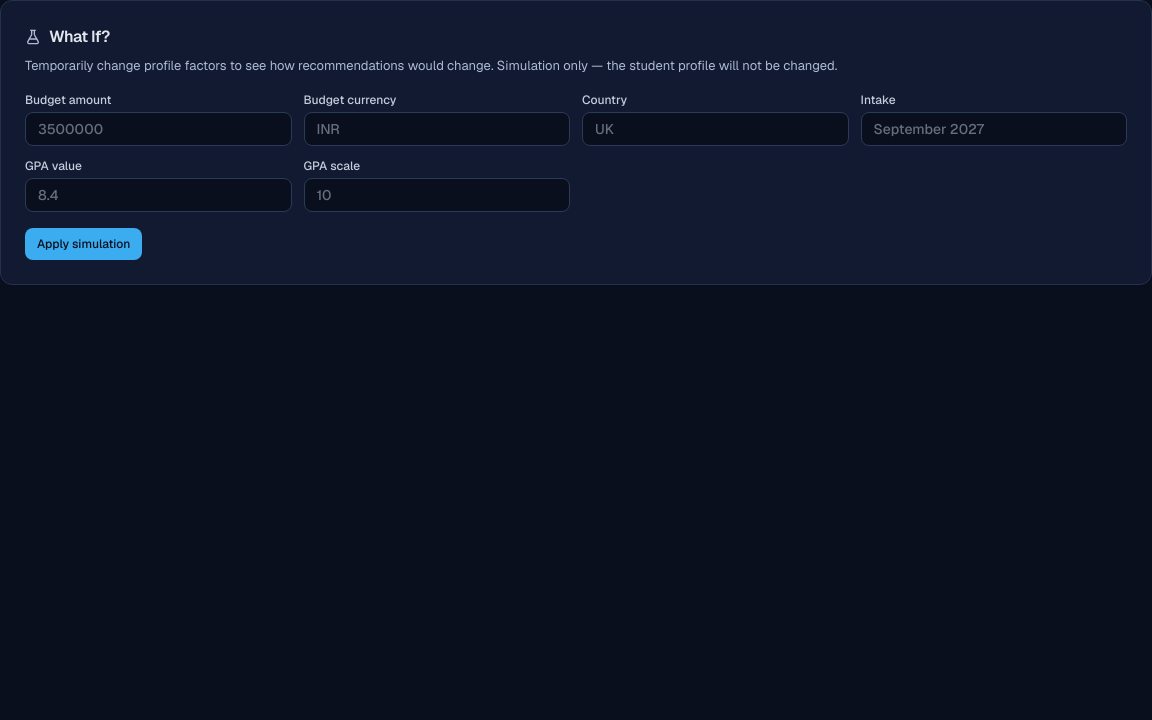
Test: WhatIfPanel › applies a simulation and renders rank and score deltas
Type "Canada" into the field named "Scenario country" at point(715, 129), box [582,112,848,146]
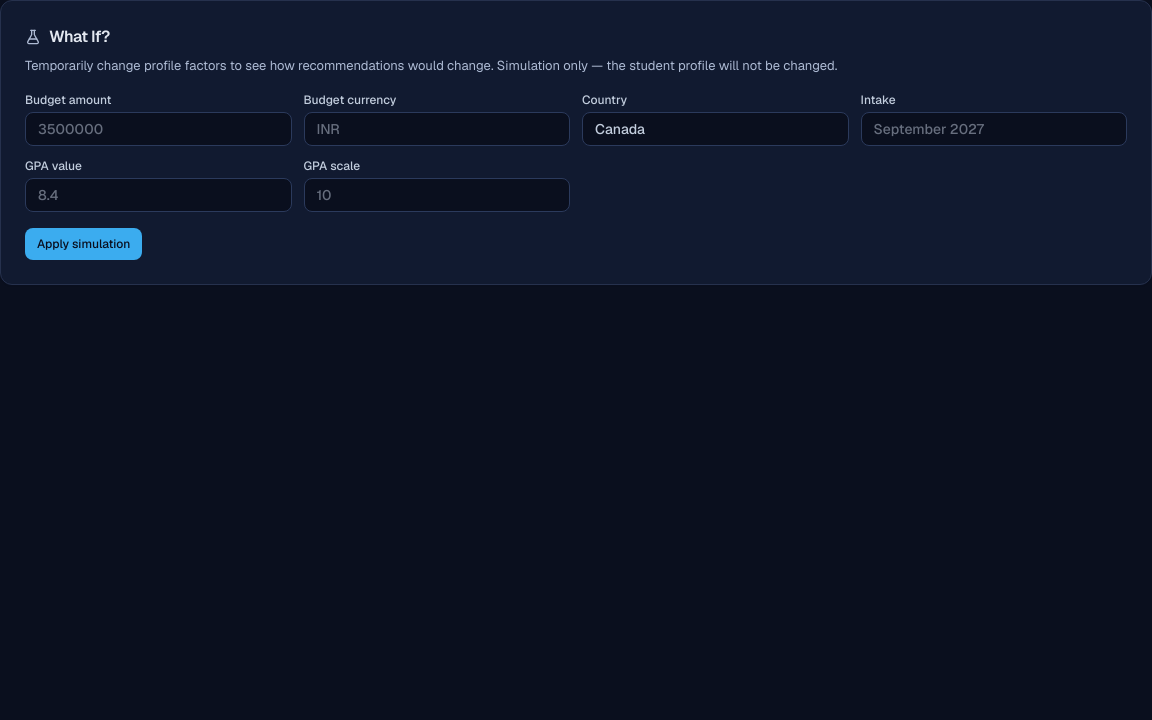
Click the button "Apply simulation" at point(84, 244), box [25,228,142,260]
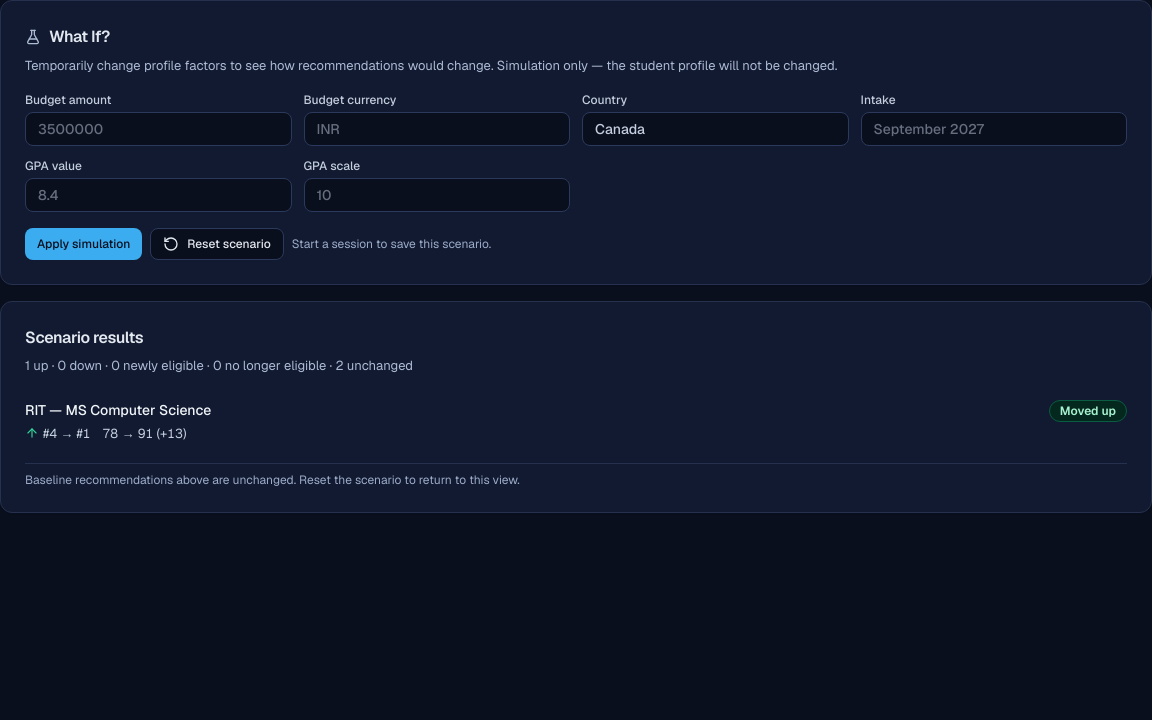
Check: the text "Scenario results" is shown, box [25,327,143,348]
Check: the text "RIT — MS Computer Science" is shown, box [25,400,211,420]
Check: the text "#4 → #1" is shown, box [25,424,90,443]
